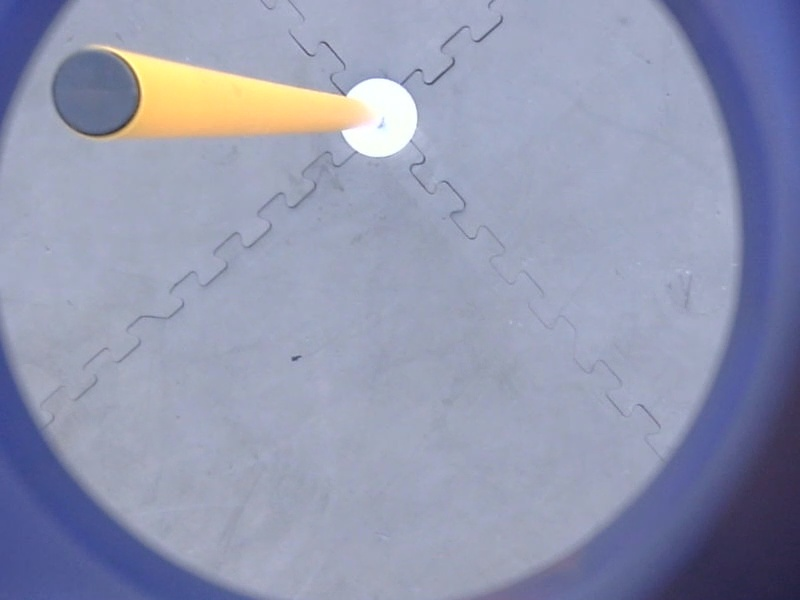tip: (46, 42, 148, 146)
